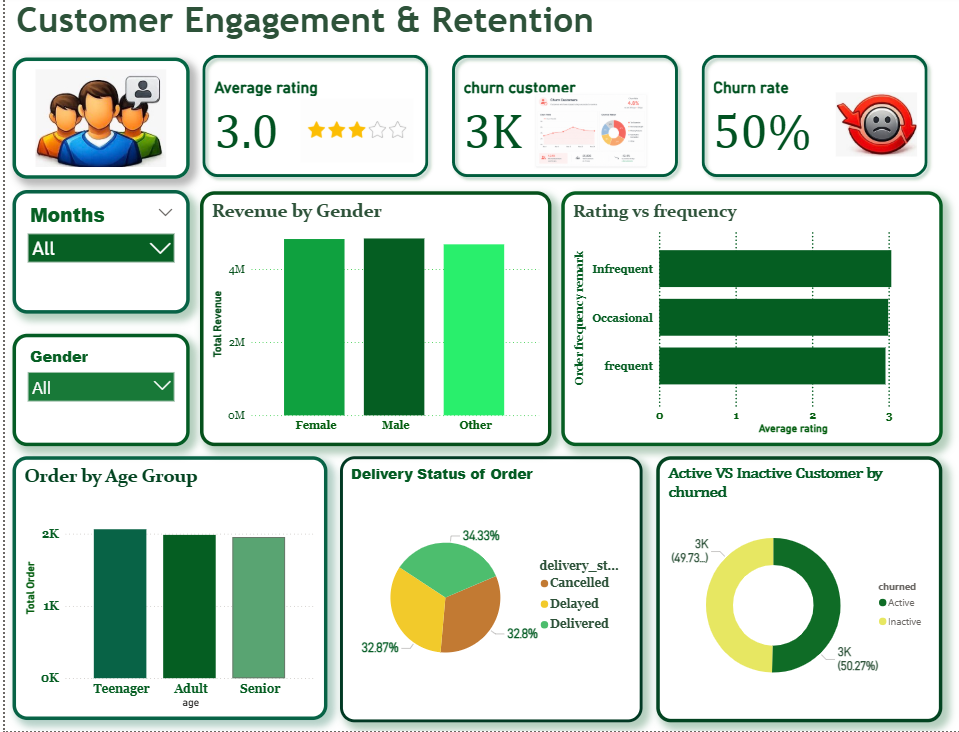

The page's visual inventory and layout, read from the dashboard file:
{"tool":"powerbi","page":{"name":"Customer engagement","canvas":[1300,1000],"ordinal":2},"visuals":[{"type":"cardVisual","fields":{"Data":["Foodpanda Analysis Dataset.avarage rating","Foodpanda Analysis Dataset.churn customer","Foodpanda Analysis Dataset.Churn rate"]},"box":[251.4,64.5,1020.7,200.4],"z":0},{"type":"textbox","box":[10.2,0,1289.1,98.5],"z":1000},{"type":"donutChart","title":" Active VS Inactive Customer by churned","fields":{"Y":["Foodpanda Analysis Dataset.Total Order"],"Series":["Foodpanda Analysis Dataset.churned"]},"box":[884.9,626.7,388.9,361.8],"z":3000},{"type":"clusteredColumnChart","title":"Order by Age Group","fields":{"Category":["Foodpanda Analysis Dataset.age"],"Y":["Foodpanda Analysis Dataset.Total Order"]},"box":[10.2,626.7,428,358.4],"z":4000},{"type":"clusteredColumnChart","title":" Revenue by Gender","fields":{"Category":["Foodpanda Analysis Dataset.gender"],"Y":["Foodpanda Analysis Dataset.Total Revenue"]},"box":[264.9,266.6,477.2,346.5],"z":5000},{"type":"slicer","fields":{"Values":["Date Table.Months"]},"box":[10.2,264.9,241.2,168.1],"z":6000},{"type":"slicer","fields":{"Values":["Foodpanda Analysis Dataset.gender"]},"box":[10.2,460.3,241.2,152.9],"z":7000},{"type":"image","box":[10.2,84.9,241.2,164.7],"z":8000},{"type":"clusteredBarChart","title":"Rating vs frequency","fields":{"Y":["Foodpanda Analysis Dataset.Average rating"],"Category":["Foodpanda Analysis Dataset.Order frequency remark"]},"box":[755.8,266.6,518,346.5],"z":9000},{"type":"image","box":[1105.6,127.4,156.3,96.8],"z":10000},{"type":"image","box":[708.2,127.4,176.6,113.8],"z":11000},{"type":"image","box":[392.3,135.9,171.5,96.8],"z":12000},{"type":"pieChart","title":"Delivery Status of Order ","fields":{"Series":["Foodpanda Analysis Dataset.delivery_status"],"Y":["Foodpanda Analysis Dataset.Total Order"]},"box":[455.2,626.7,411,361.8],"z":13000}]}

Visuals, with their boxes in screenshot pixels (x1, y1, x2, y2), scaled from the page's 1300x1000 canvas onto the 959x732 screenshot:
cardVisual - Foodpanda Analysis Dataset.avarage rating x Foodpanda Analysis Dataset.churn customer: select_region(185, 47, 938, 194)
textbox: select_region(8, 0, 958, 72)
" Active VS Inactive Customer by churned" donutChart: select_region(653, 459, 940, 724)
"Order by Age Group" clusteredColumnChart: select_region(8, 459, 323, 721)
" Revenue by Gender" clusteredColumnChart: select_region(195, 195, 547, 449)
slicer - Date Table.Months: select_region(8, 194, 185, 317)
slicer - Foodpanda Analysis Dataset.gender: select_region(8, 337, 185, 449)
image: select_region(8, 62, 185, 183)
"Rating vs frequency" clusteredBarChart: select_region(558, 195, 940, 449)
image: select_region(816, 93, 931, 164)
image: select_region(522, 93, 653, 177)
image: select_region(289, 99, 416, 170)
"Delivery Status of Order " pieChart: select_region(336, 459, 639, 724)
